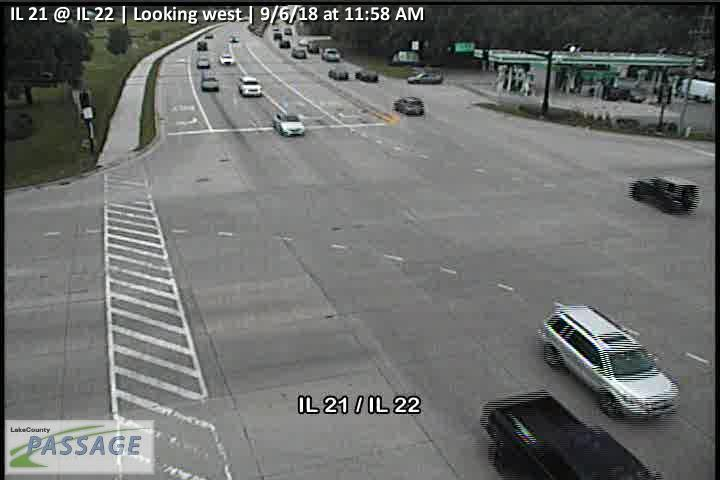SUV: (537, 304, 679, 420), (630, 174, 697, 215), (392, 95, 424, 117), (238, 76, 261, 97), (408, 71, 442, 84), (321, 47, 341, 62), (196, 55, 210, 68)
Sedan: (272, 113, 304, 136), (356, 68, 378, 83), (328, 67, 349, 80), (201, 77, 219, 91), (219, 53, 234, 65)
Truck: (480, 391, 653, 480), (672, 77, 714, 103)
